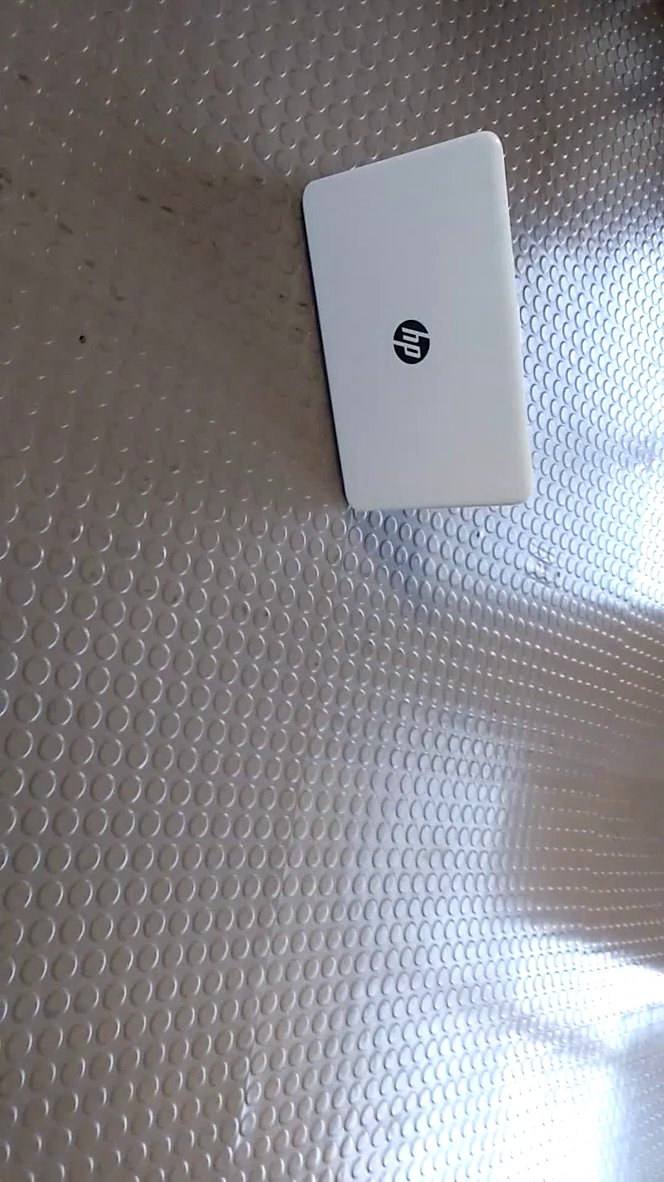laptop: (292, 122, 541, 530)
